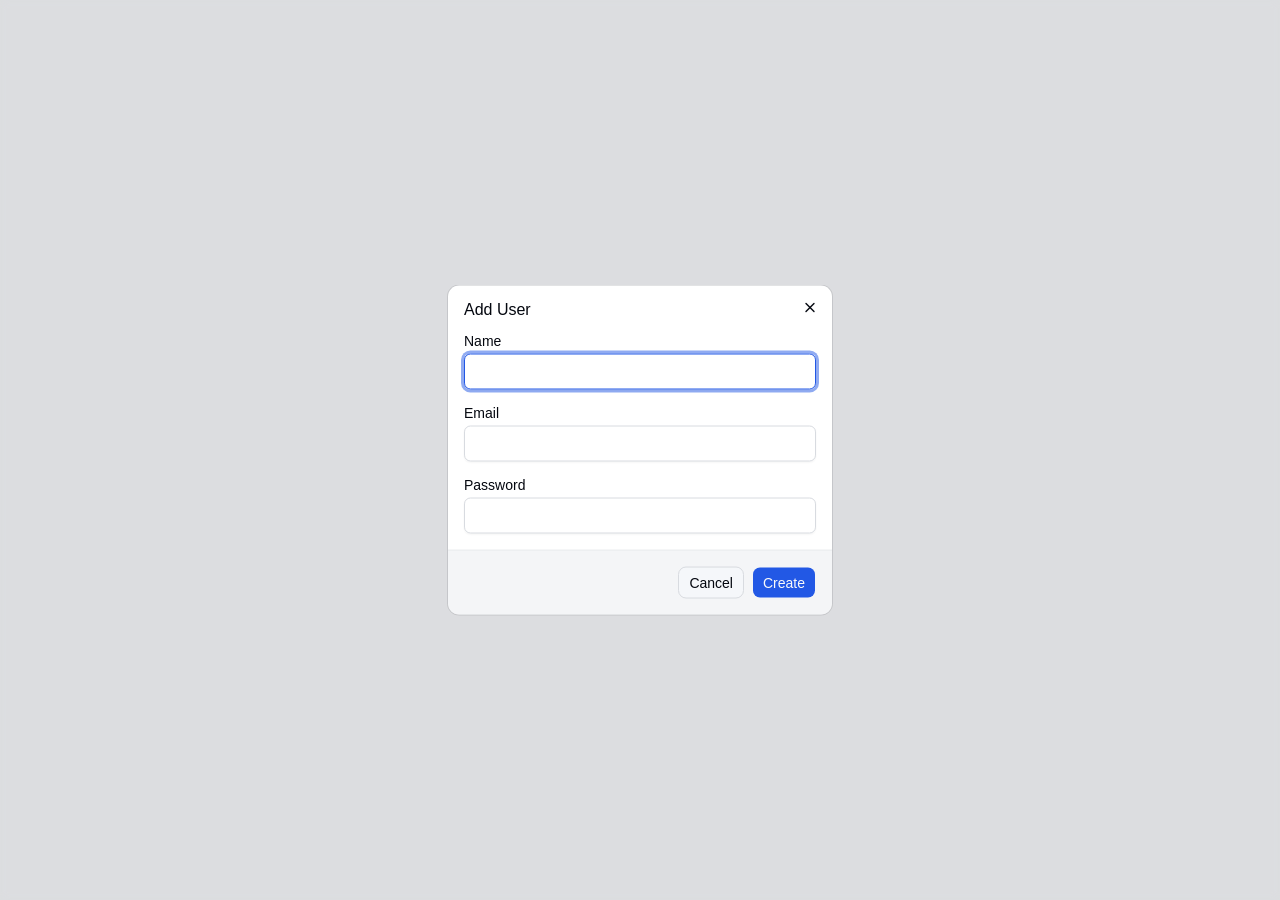
Test: CreateUserDialog › validation › shows an error when Name is empty
Step 1. Click the button "Create" → x=784, y=582, box 752,566 -> 816,598
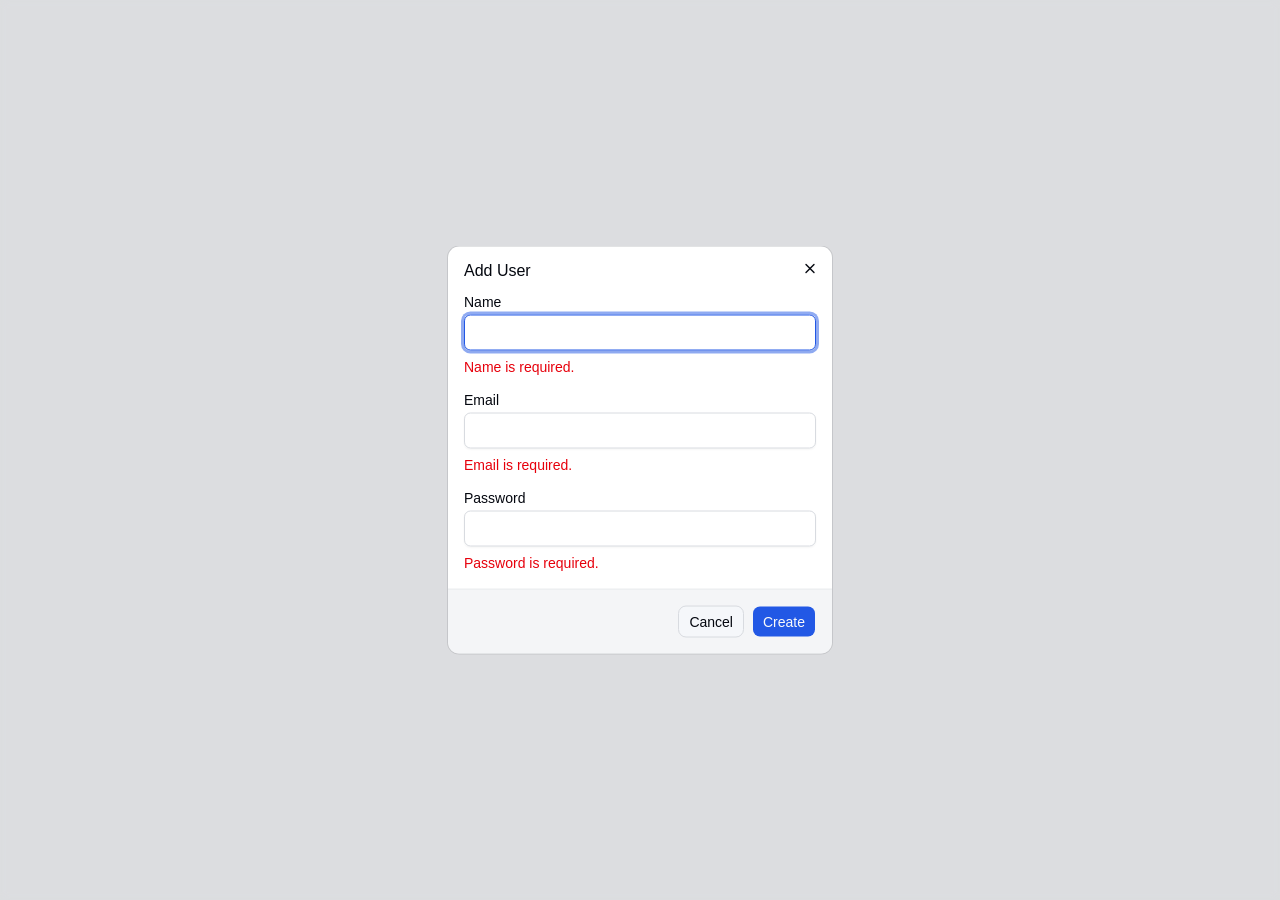
expect the text "Name is required." is shown: met, box 464,358 -> 574,374
